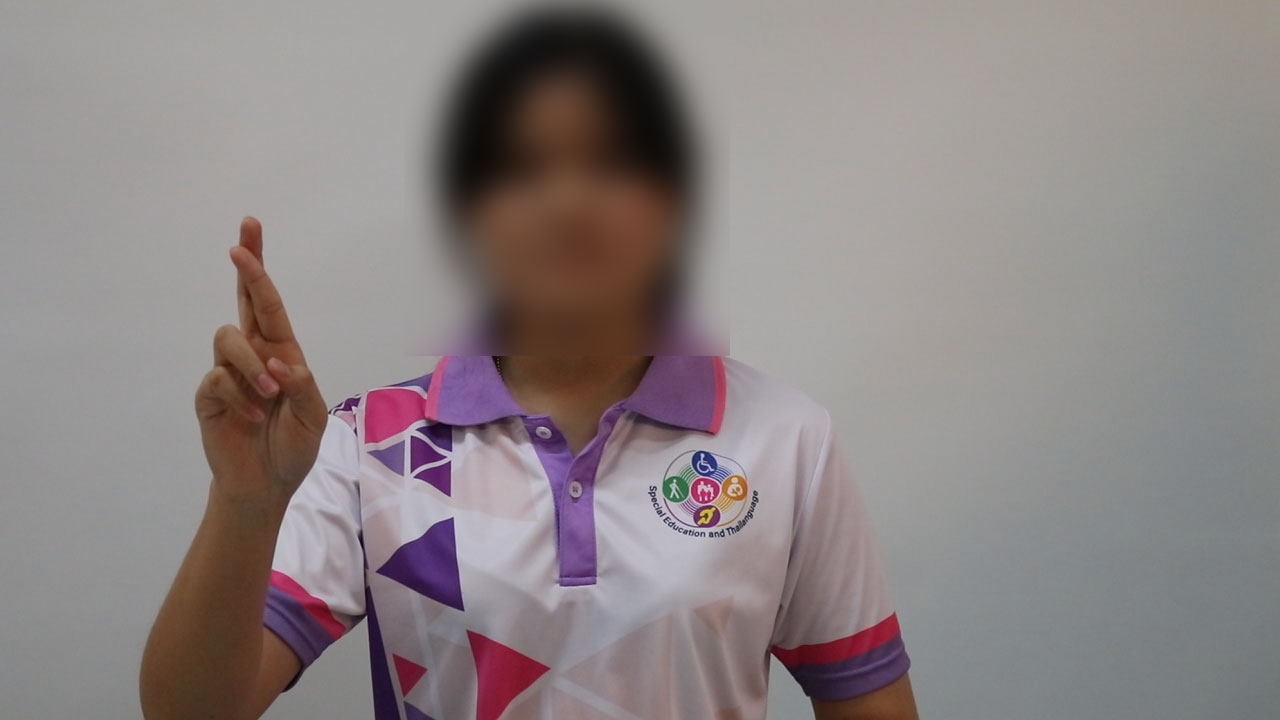rao: (164, 208, 347, 508)
